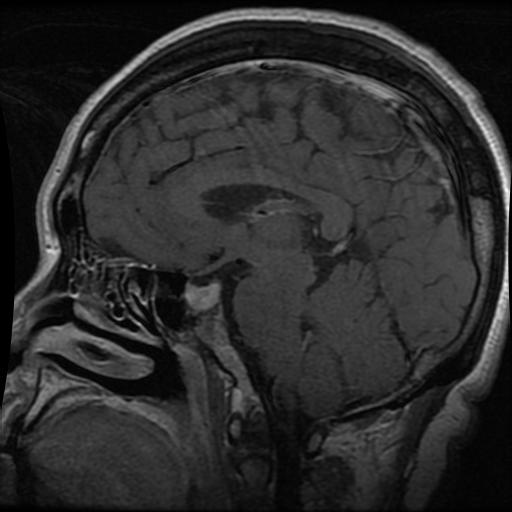Pituirity_tumour: (184, 282, 218, 310)
